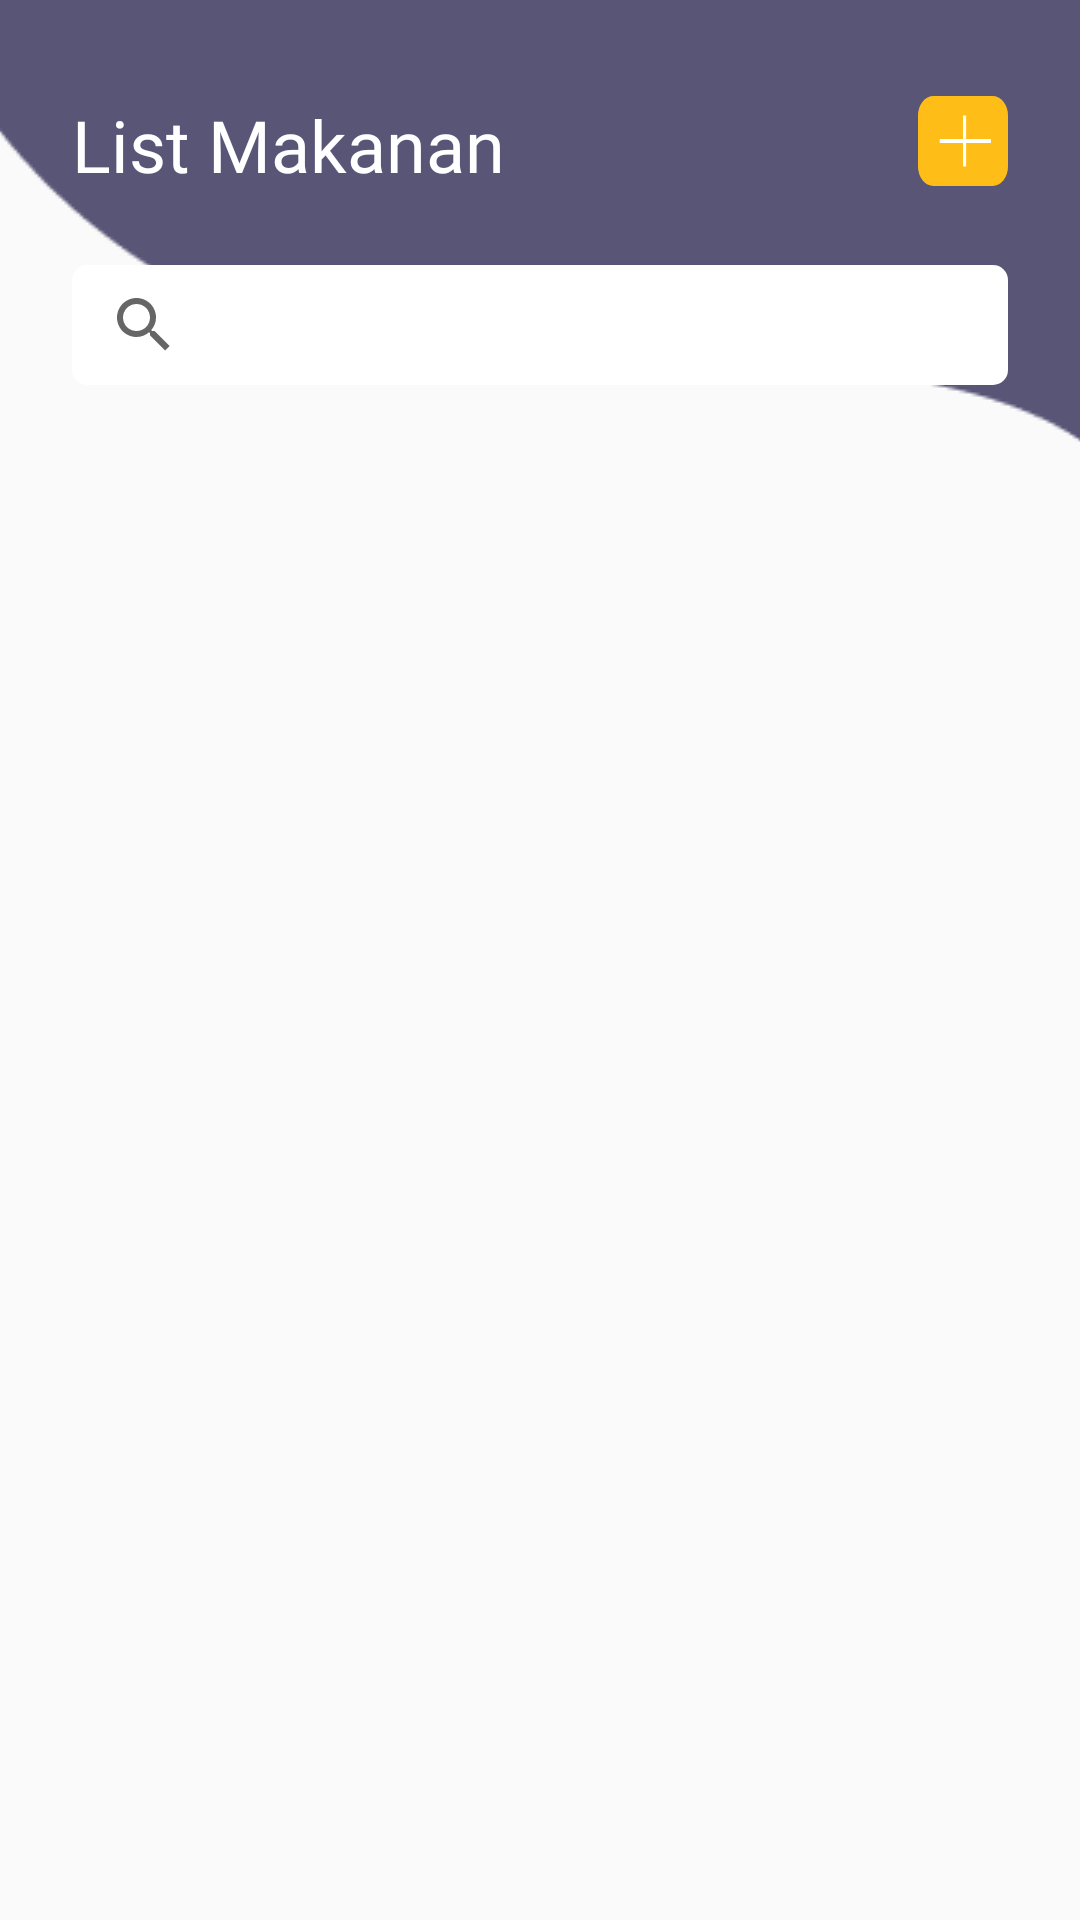

Named icons in this screenshot (1080w x 1920h) and their centers, [x,y]:
add: [963,141]
